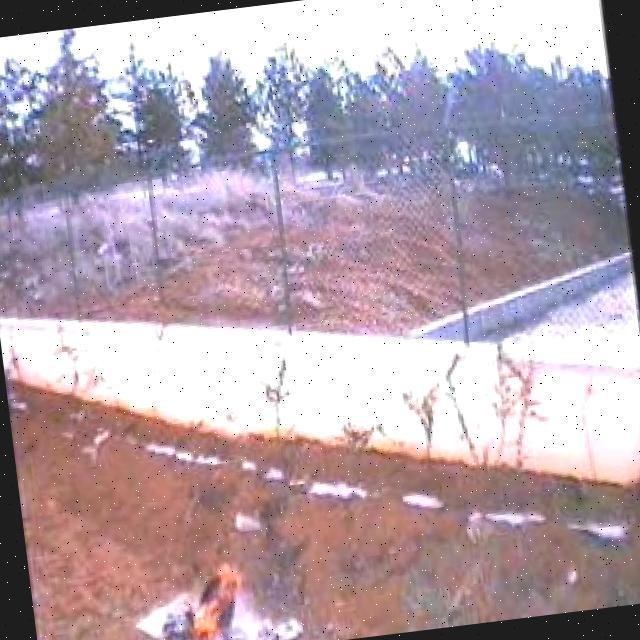Fire: (156, 559, 251, 640)
